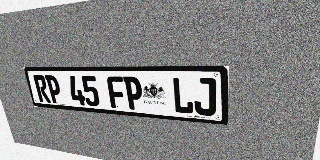4: (67, 75, 86, 106)
5: (81, 76, 101, 107)
F: (106, 76, 127, 109)
J: (193, 77, 216, 116)
L: (172, 77, 194, 114)
P: (123, 76, 144, 110), (44, 75, 63, 104)
R: (33, 75, 51, 103)
